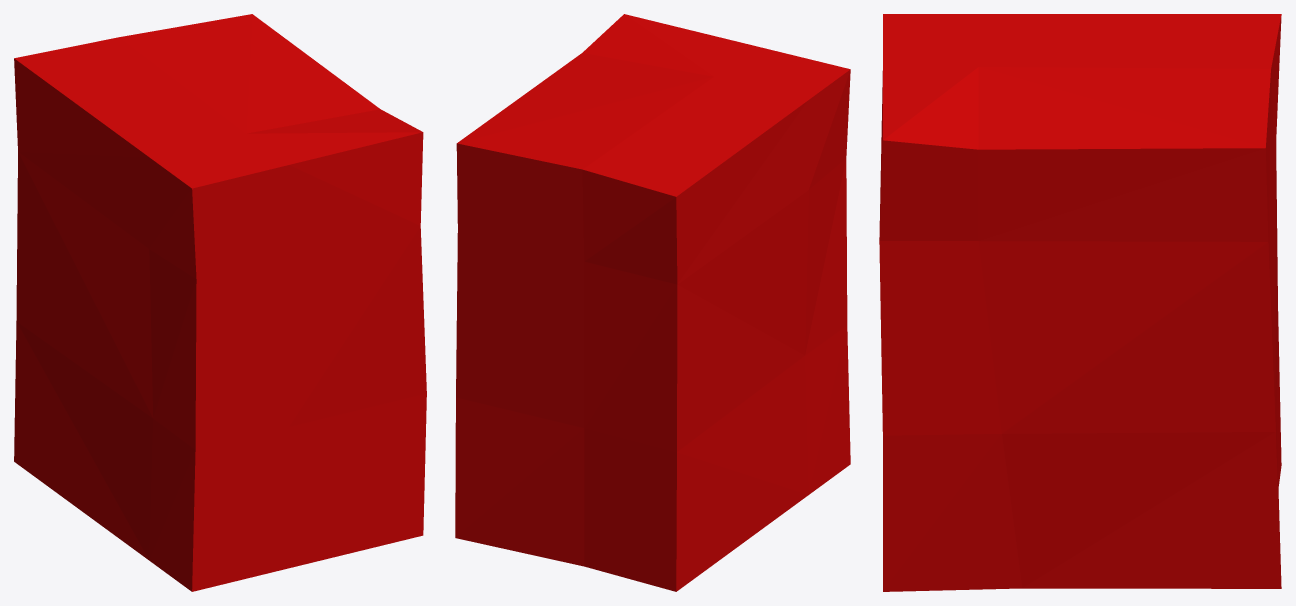
The picture shows the model from 3 angles, left to right: view 1: azimuth 30°, elevation 25°; view 2: azimuth 150°, elevation 25°; view 3: azimuth 270°, elevation 25°; orthographic projection. The views are drawn at different scales.
Parts seen in each view (by area): view 1: Mesh; view 2: Mesh; view 3: Mesh.
Boxes of the visible parts, x1,y1,x2,y2 form: Mesh: (14,14,426,591); Mesh: (455,14,850,591); Mesh: (879,14,1281,591).
Size of the model in its own units: 0.6092 by 1 by 0.807.
